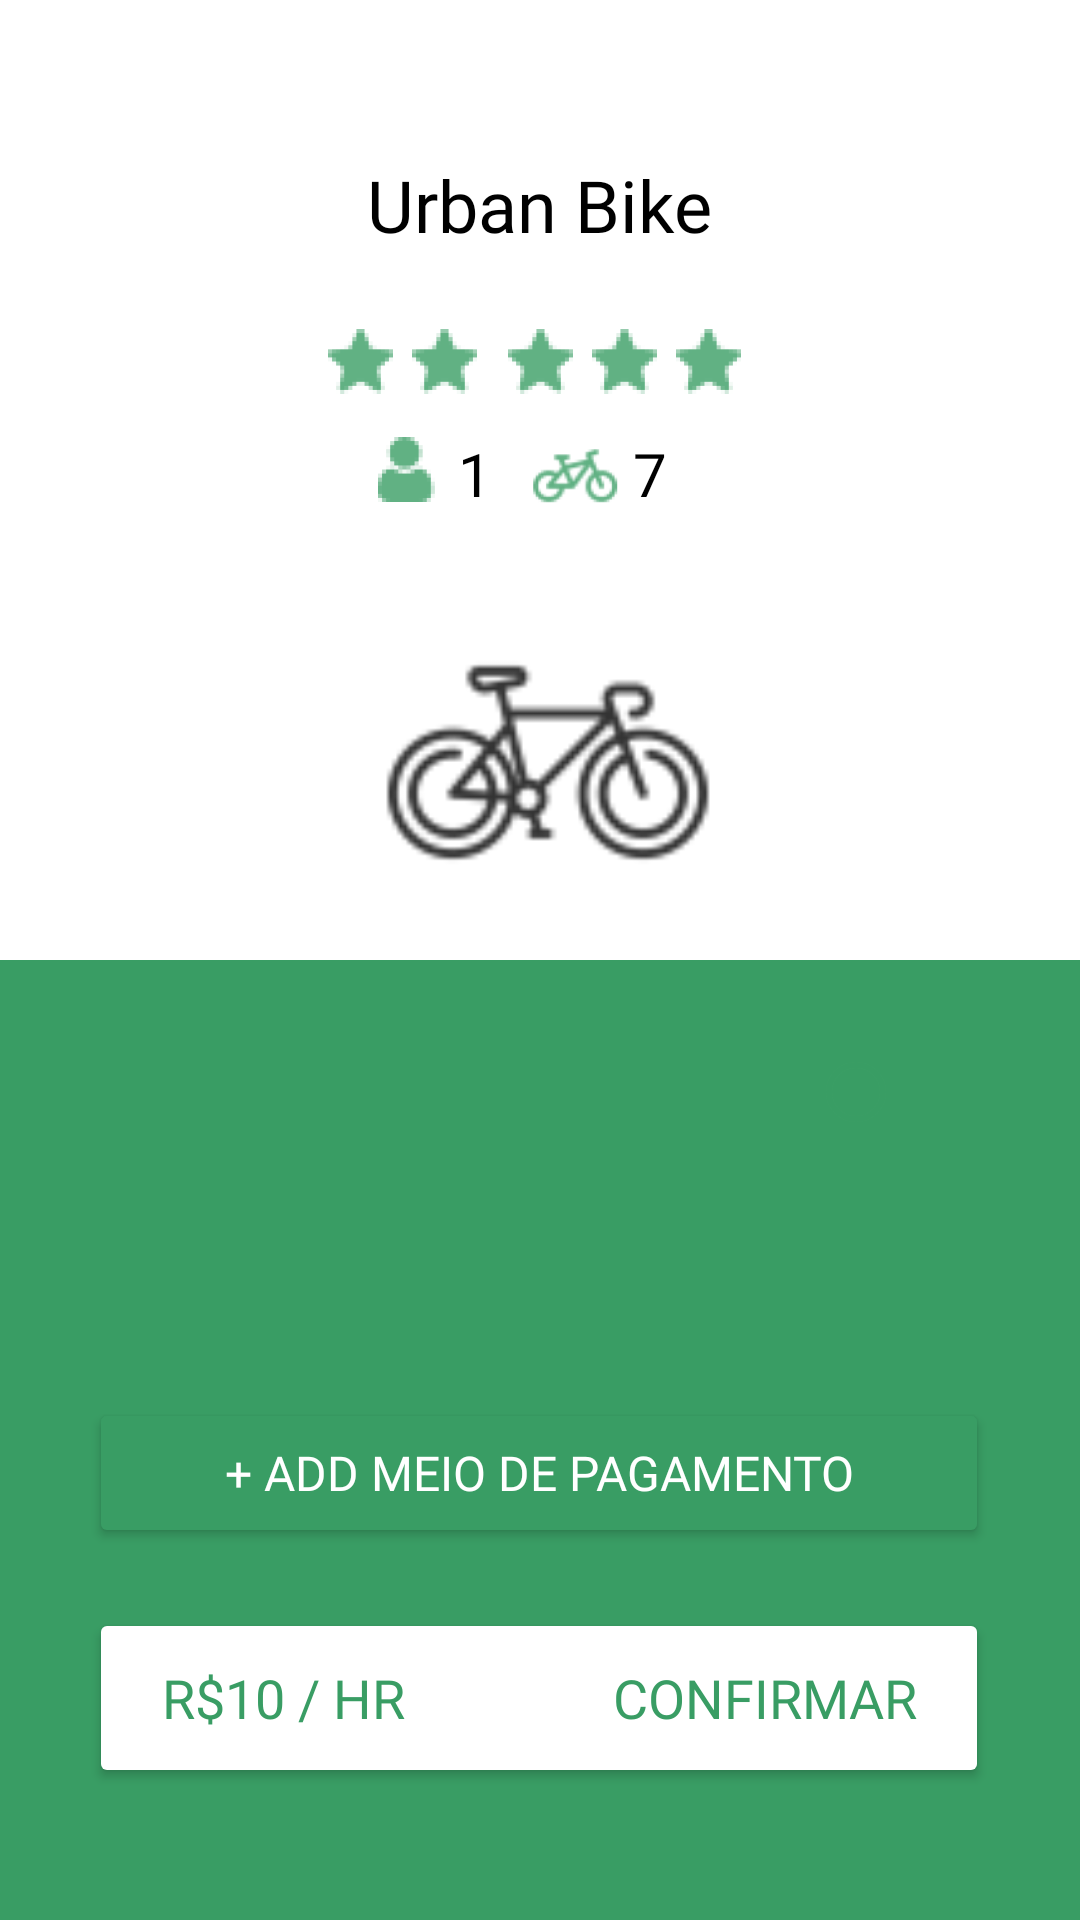

Named icons in this screenshot (1080w x 1920h) and their centers, (x=x, y=y):
profile: (x=406, y=469)
star: (x=360, y=361), (x=444, y=361), (x=540, y=361), (x=624, y=361), (x=708, y=361)
urban bike: (x=548, y=762)
